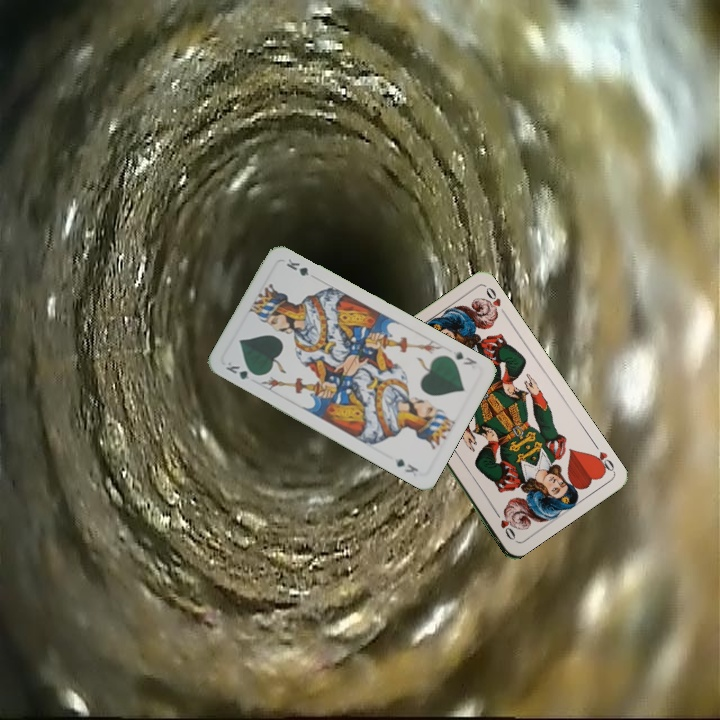GK: (221, 358, 261, 382), (449, 347, 480, 368)
HO: (587, 438, 617, 477)
